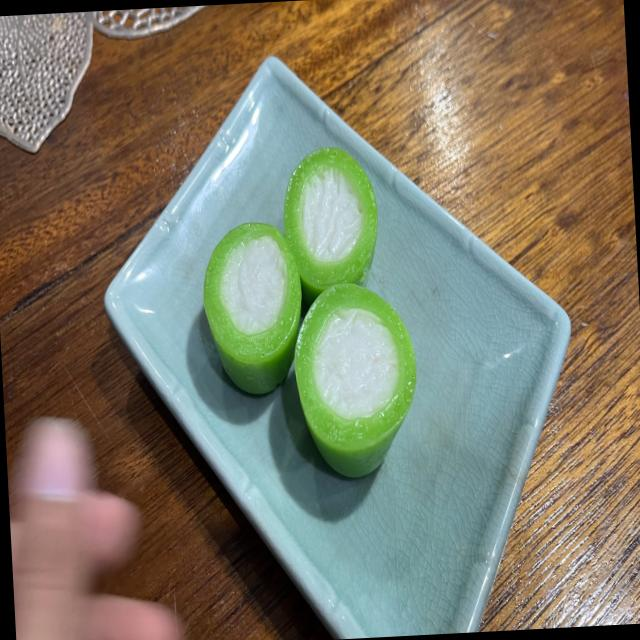nona-manis: (294, 283, 417, 478), (203, 223, 302, 395), (284, 148, 378, 305)
